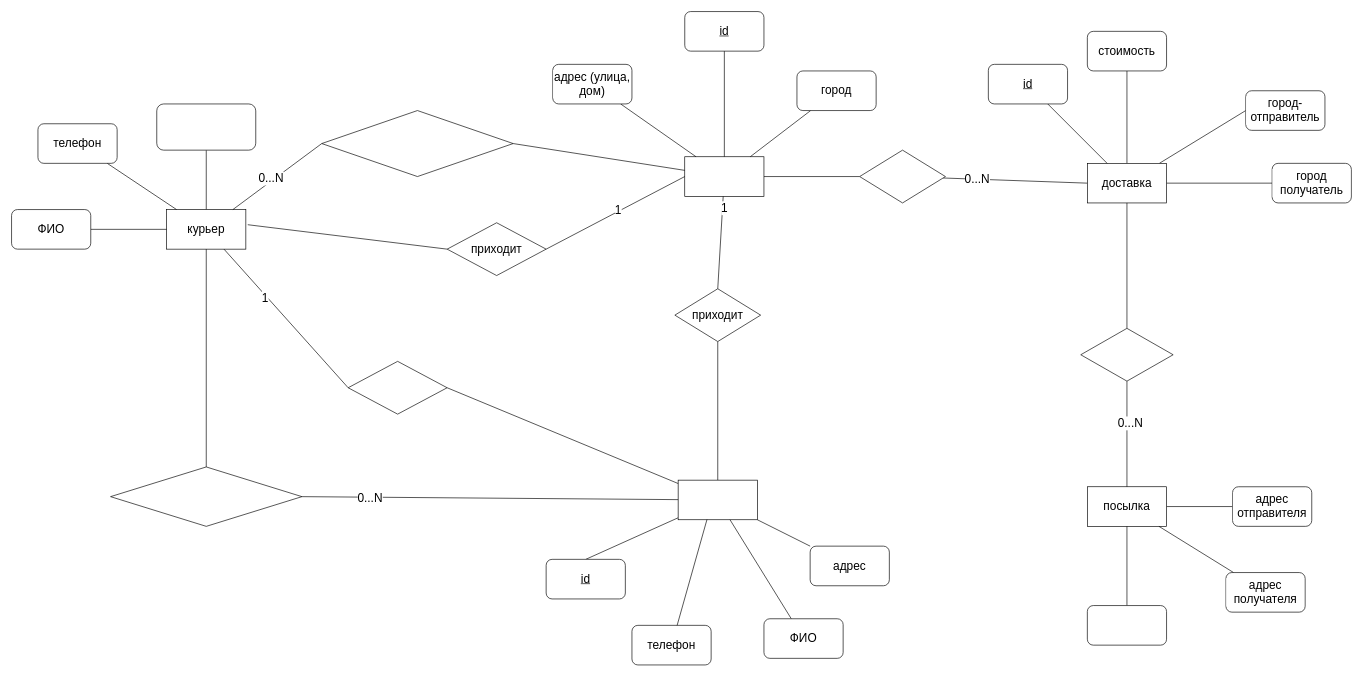
This 1363x677 diagram has some shape labels left out. The shapes that lost their labels are listed below. From the top down, each one's centre as x and y in pixels, then its label:
At (206,126): "фиксированная плата".
At (417,143): "поручает доставку до дома".
At (724,176): "пункт приема и выдачи".
At (902,176): "совершает".
At (1126,354): "включает".
At (397,387): "вызывает".
At (206,496): "делает доставку до дома".
At (717,499): "клиент".
At (1127,625): "id посылки".
